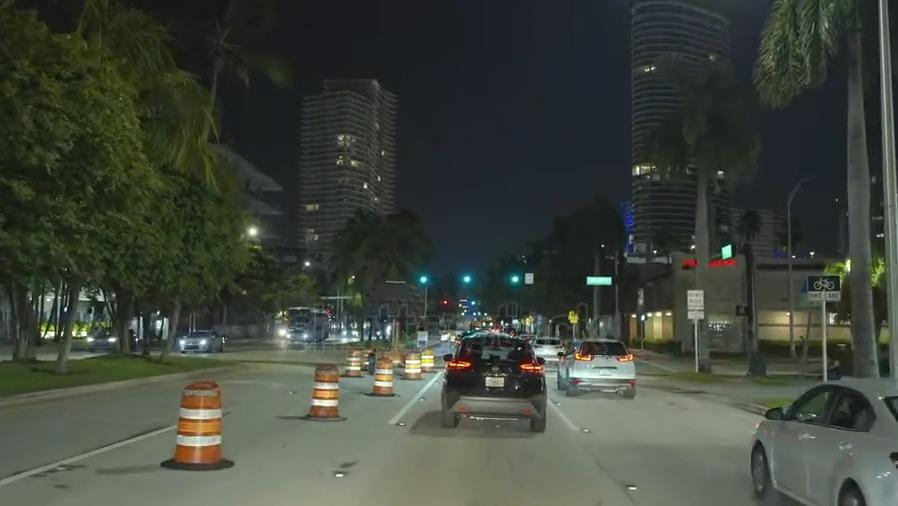bus: (285, 304, 331, 346)
car: (752, 375, 898, 506), (437, 337, 546, 430), (560, 339, 634, 398), (80, 321, 139, 355), (174, 327, 227, 354), (530, 334, 566, 366)
cone: (174, 379, 223, 466), (308, 362, 340, 418), (370, 356, 392, 395), (346, 345, 361, 375), (405, 351, 421, 379), (420, 350, 435, 371)
pedestrian: (641, 353, 739, 375)
traffic light: (449, 267, 478, 290), (408, 267, 433, 291), (500, 267, 524, 291)
wheel: (748, 440, 774, 495), (832, 473, 866, 506)
